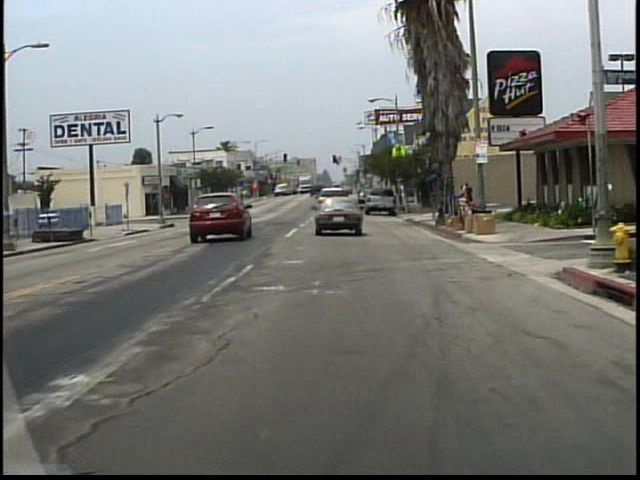person: (466, 181, 475, 211), (460, 184, 468, 208)
